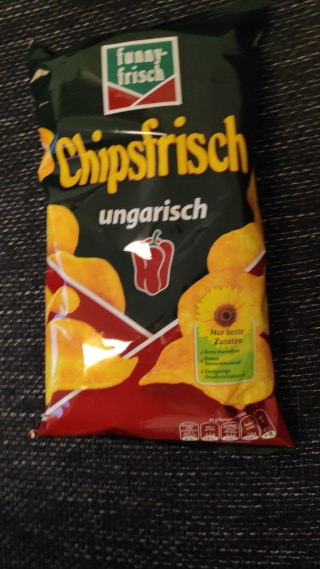chipsfrisch: (24, 1, 293, 459)
